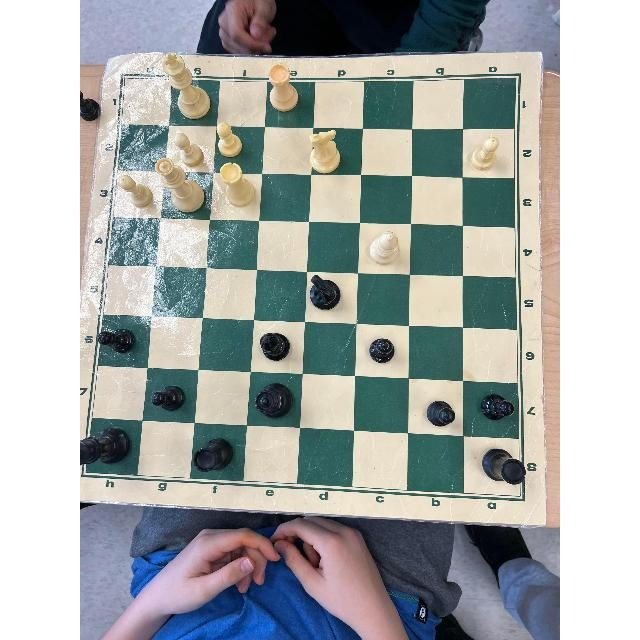black-bishop: (256, 330, 297, 364)
black-king: (80, 421, 136, 473)
black-knight: (305, 270, 347, 315)
black-pawn: (93, 321, 142, 359), (145, 380, 193, 416), (478, 390, 517, 424), (422, 396, 458, 432), (367, 334, 399, 367)
black-queen: (249, 378, 301, 422)
black-rook: (477, 444, 528, 492), (187, 433, 237, 478)
white-bishop: (363, 225, 405, 273)
white-king: (151, 46, 214, 122)
white-knight: (305, 127, 344, 177)
white-pawn: (113, 171, 156, 210), (172, 129, 206, 169), (468, 132, 502, 172), (214, 118, 246, 160)
white-queen: (153, 155, 211, 217)
white-rook: (215, 157, 261, 214), (263, 60, 302, 118)
